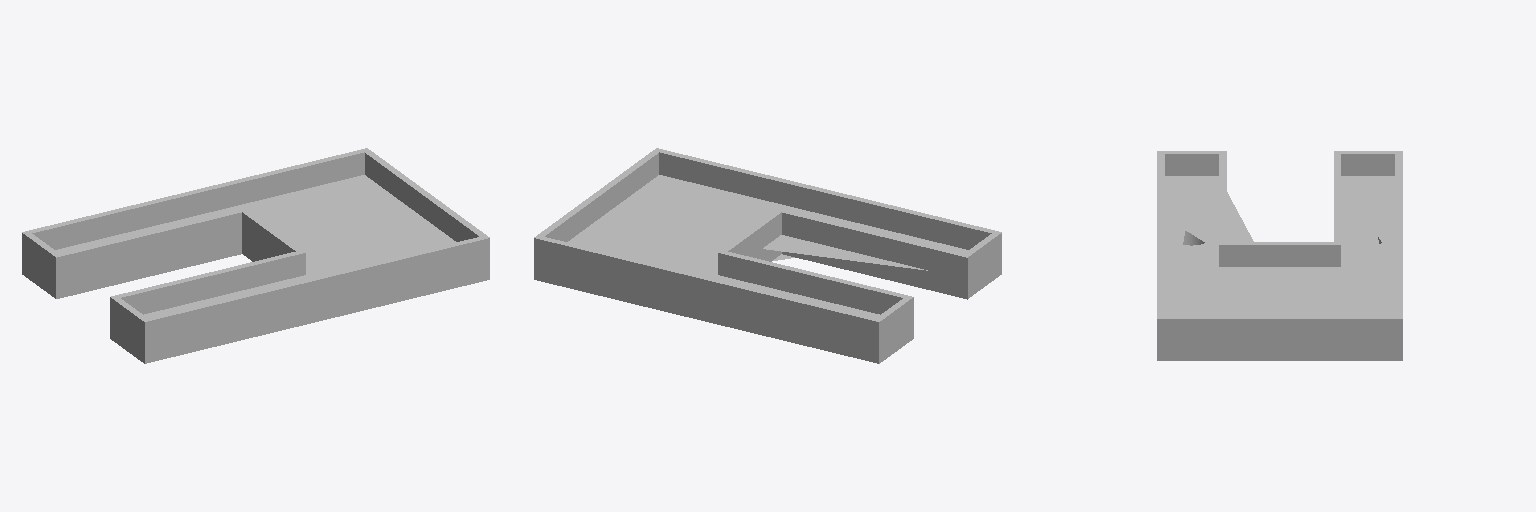
File: lvl16.obj
3 views of the same model, side by side, from view 1: azimuth 30°, elevation 25°; view 2: azimuth 150°, elevation 25°; view 3: azimuth 270°, elevation 25° (orthographic).
Visible parts, largest first — view 1: Cube; view 2: Cube; view 3: Cube.
Boxes of the visible parts, x1,y1,x2,y2 form: Cube: [22, 148, 489, 363]; Cube: [534, 148, 1001, 363]; Cube: [1157, 151, 1402, 360].
Size of the model in its own units: 2.6 by 0.3 by 1.6.